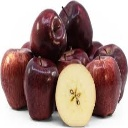apple: (0, 48, 34, 110)
